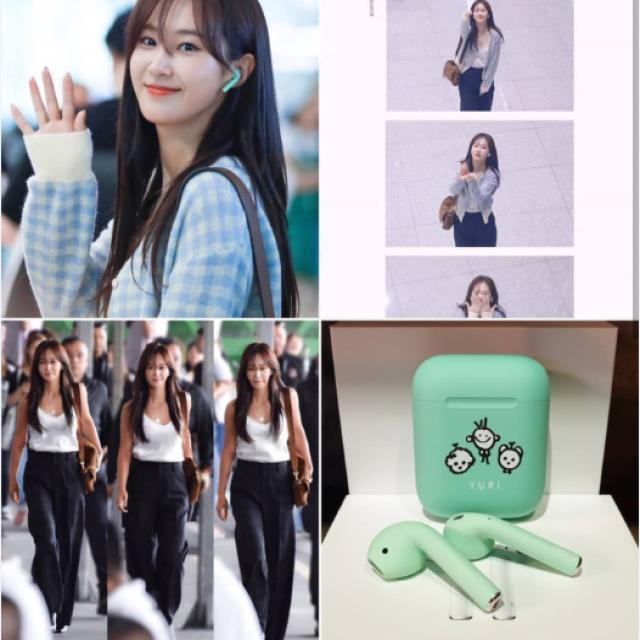earphone: (347, 339, 612, 630), (194, 54, 274, 126)
